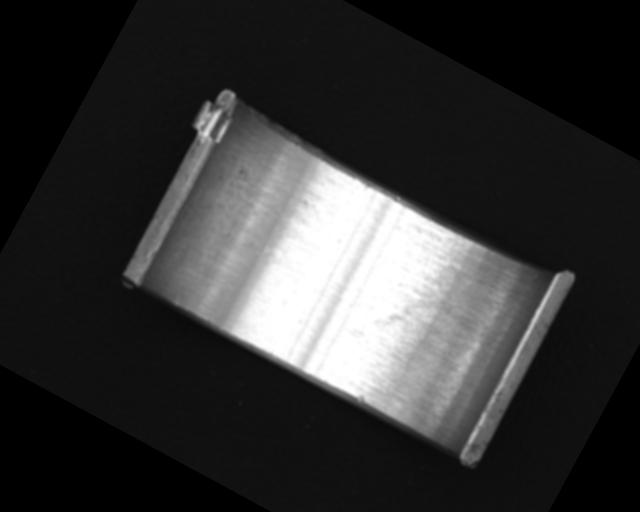bruise: (354, 391, 369, 405)
